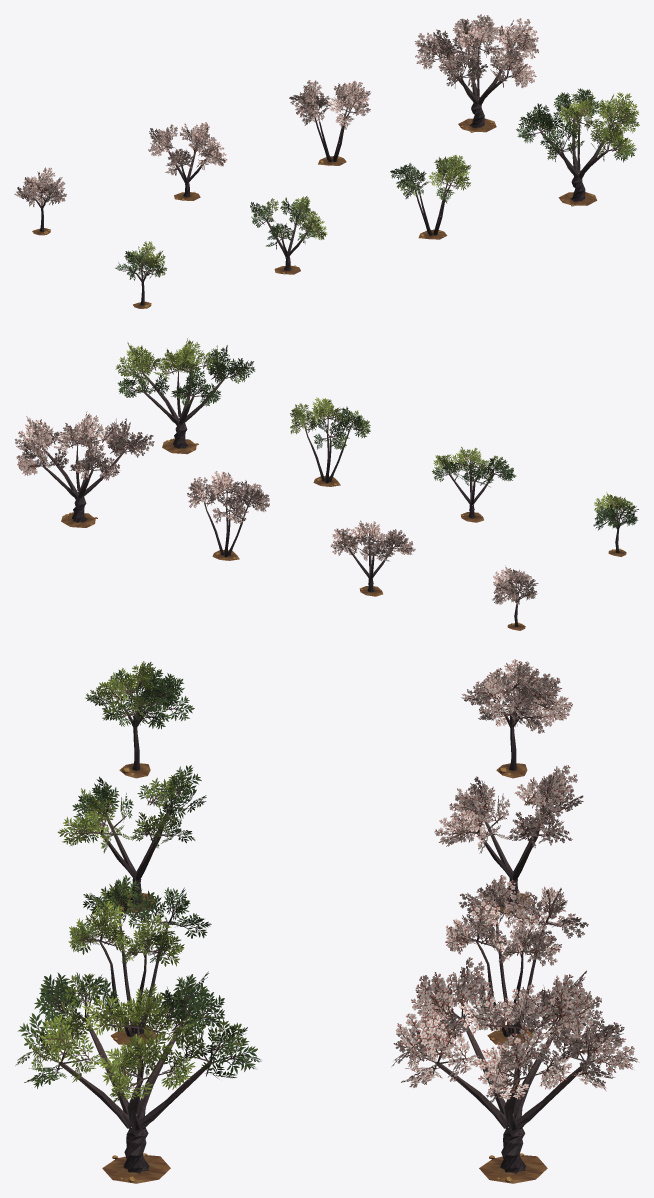
Rendered from amendoeiras.glb.
3 renders of one model, top to bottom at view 1: azimuth 30°, elevation 25°; view 2: azimuth 150°, elevation 25°; view 3: azimuth 270°, elevation 25°, orthographic. The views are drawn at different scales.
Parts seen in each view (by area): view 1: Amendoeira4_Ancia_Florida, Amendoeira4_Ancia_Verao, Amendoeira3_Selvagem_Florida, Amendoeira2_Pomar_Florida, Amendoeira3_Selvagem_Verao, Amendoeira2_Pomar_Verao, Amendoeira1_Jovem_Florida, Amendoeira1_Jovem_Verao; view 2: Amendoeira4_Ancia_Florida, Amendoeira4_Ancia_Verao, Amendoeira3_Selvagem_Florida, Amendoeira3_Selvagem_Verao, Amendoeira2_Pomar_Florida, Amendoeira2_Pomar_Verao, Amendoeira1_Jovem_Florida, Amendoeira1_Jovem_Verao; view 3: Amendoeira4_Ancia_Florida, Amendoeira4_Ancia_Verao, Amendoeira3_Selvagem_Florida, Amendoeira3_Selvagem_Verao, Amendoeira2_Pomar_Florida, Amendoeira2_Pomar_Verao, Amendoeira1_Jovem_Florida, Amendoeira1_Jovem_Verao.
Part boxes in pixels (left/top/right/bottom): Amendoeira4_Ancia_Florida: left=414, top=14, right=538, bottom=132; Amendoeira4_Ancia_Verao: left=516, top=88, right=639, bottom=206; Amendoeira3_Selvagem_Florida: left=289, top=80, right=370, bottom=165; Amendoeira2_Pomar_Florida: left=148, top=122, right=227, bottom=200; Amendoeira3_Selvagem_Verao: left=390, top=155, right=471, bottom=239; Amendoeira2_Pomar_Verao: left=250, top=196, right=327, bottom=274; Amendoeira1_Jovem_Florida: left=14, top=167, right=66, bottom=235; Amendoeira1_Jovem_Verao: left=115, top=241, right=167, bottom=308; Amendoeira4_Ancia_Florida: left=14, top=411, right=154, bottom=527; Amendoeira4_Ancia_Verao: left=115, top=338, right=255, bottom=454; Amendoeira3_Selvagem_Florida: left=187, top=471, right=269, bottom=560; Amendoeira3_Selvagem_Verao: left=290, top=397, right=370, bottom=486; Amendoeira2_Pomar_Florida: left=330, top=520, right=415, bottom=596; Amendoeira2_Pomar_Verao: left=432, top=446, right=516, bottom=522; Amendoeira1_Jovem_Florida: left=492, top=565, right=538, bottom=630; Amendoeira1_Jovem_Verao: left=593, top=492, right=638, bottom=556; Amendoeira4_Ancia_Florida: left=391, top=957, right=639, bottom=1183; Amendoeira4_Ancia_Verao: left=15, top=971, right=261, bottom=1183; Amendoeira3_Selvagem_Florida: left=445, top=875, right=588, bottom=1045; Amendoeira3_Selvagem_Verao: left=68, top=875, right=211, bottom=1045; Amendoeira2_Pomar_Florida: left=434, top=765, right=583, bottom=912; Amendoeira2_Pomar_Verao: left=57, top=765, right=206, bottom=912; Amendoeira1_Jovem_Florida: left=461, top=659, right=572, bottom=778; Amendoeira1_Jovem_Verao: left=85, top=661, right=194, bottom=778.
Size of the model in its own units: 35.57 by 6.47 by 19.94.
Materials: 2 (2 with a texture image).
